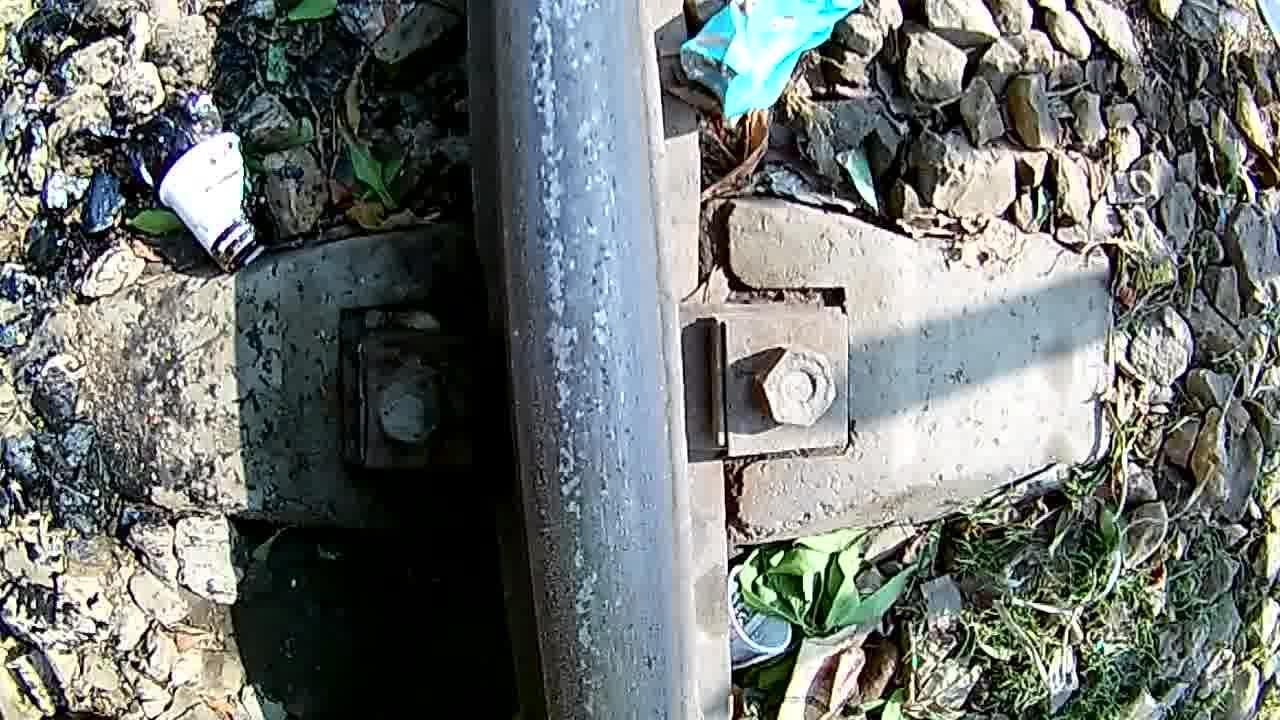crack: (488, 0, 682, 720)
